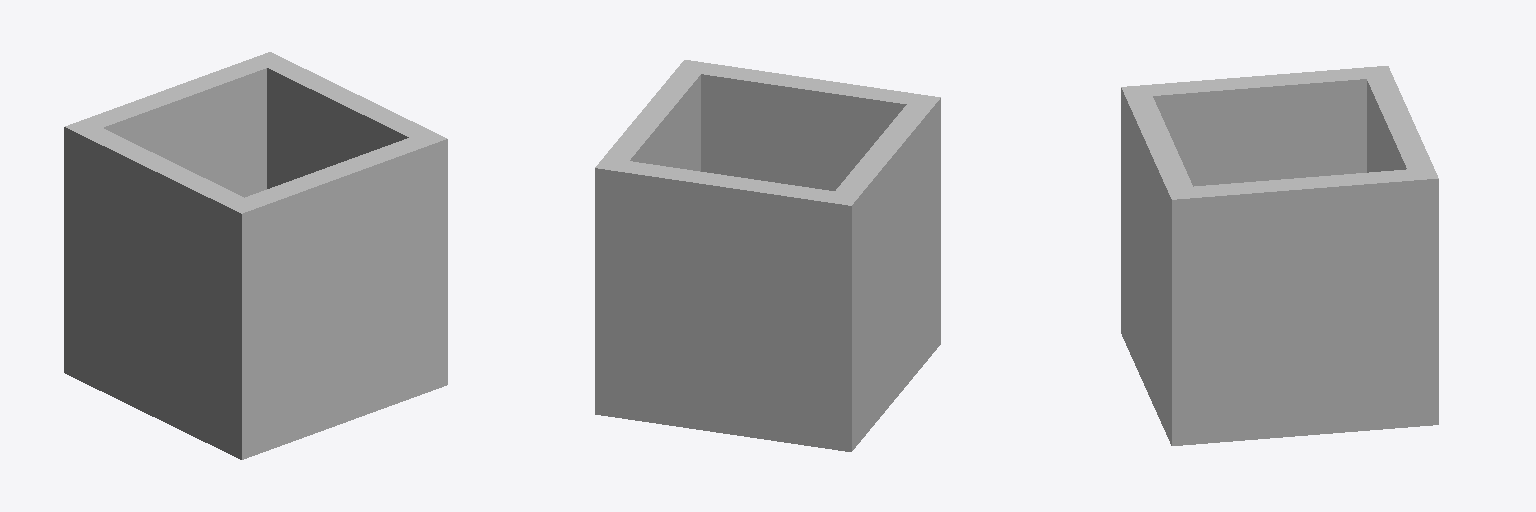
Rendered from Cubes.obj.
3 renders of one model, left to right at view 1: azimuth 30°, elevation 25°; view 2: azimuth 150°, elevation 25°; view 3: azimuth 270°, elevation 25°, orthographic.
Visible parts, largest first — view 1: Cube.036_Cube.057; view 2: Cube.036_Cube.057; view 3: Cube.036_Cube.057.
Boxes of the visible parts, box(x1,y1,x2,y2) form: Cube.036_Cube.057: box(64, 52, 447, 459); Cube.036_Cube.057: box(595, 60, 940, 451); Cube.036_Cube.057: box(1121, 66, 1438, 445).
Bounding box in the file's own units: 0.6075 × 0.5197 × 0.6075.